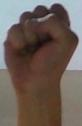S: (1, 0, 82, 81)
